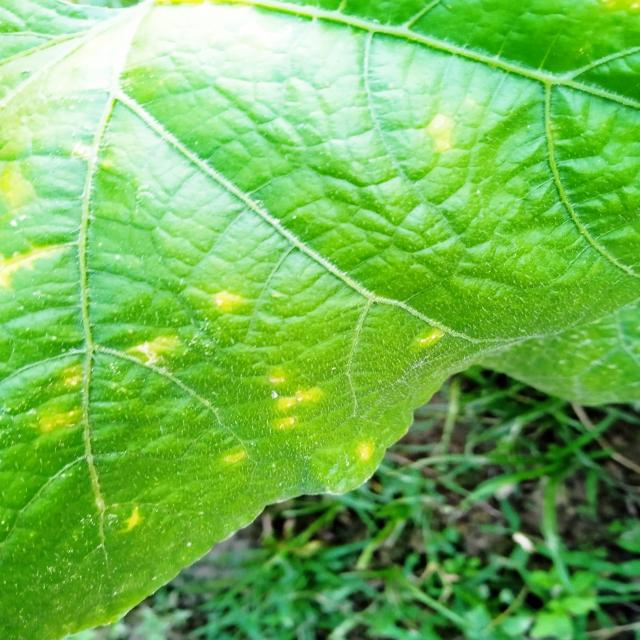Downy-Mildew: (1, 0, 551, 640)
